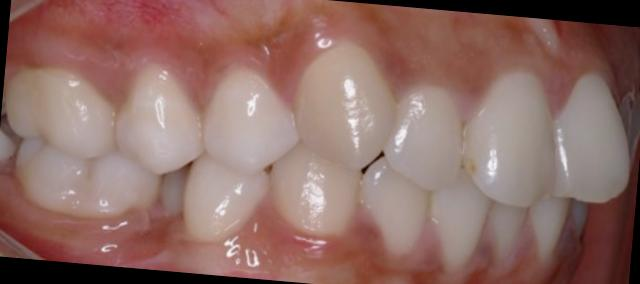canine class II 3/4: (180, 30, 405, 268)
molar class I: (0, 61, 174, 236)
